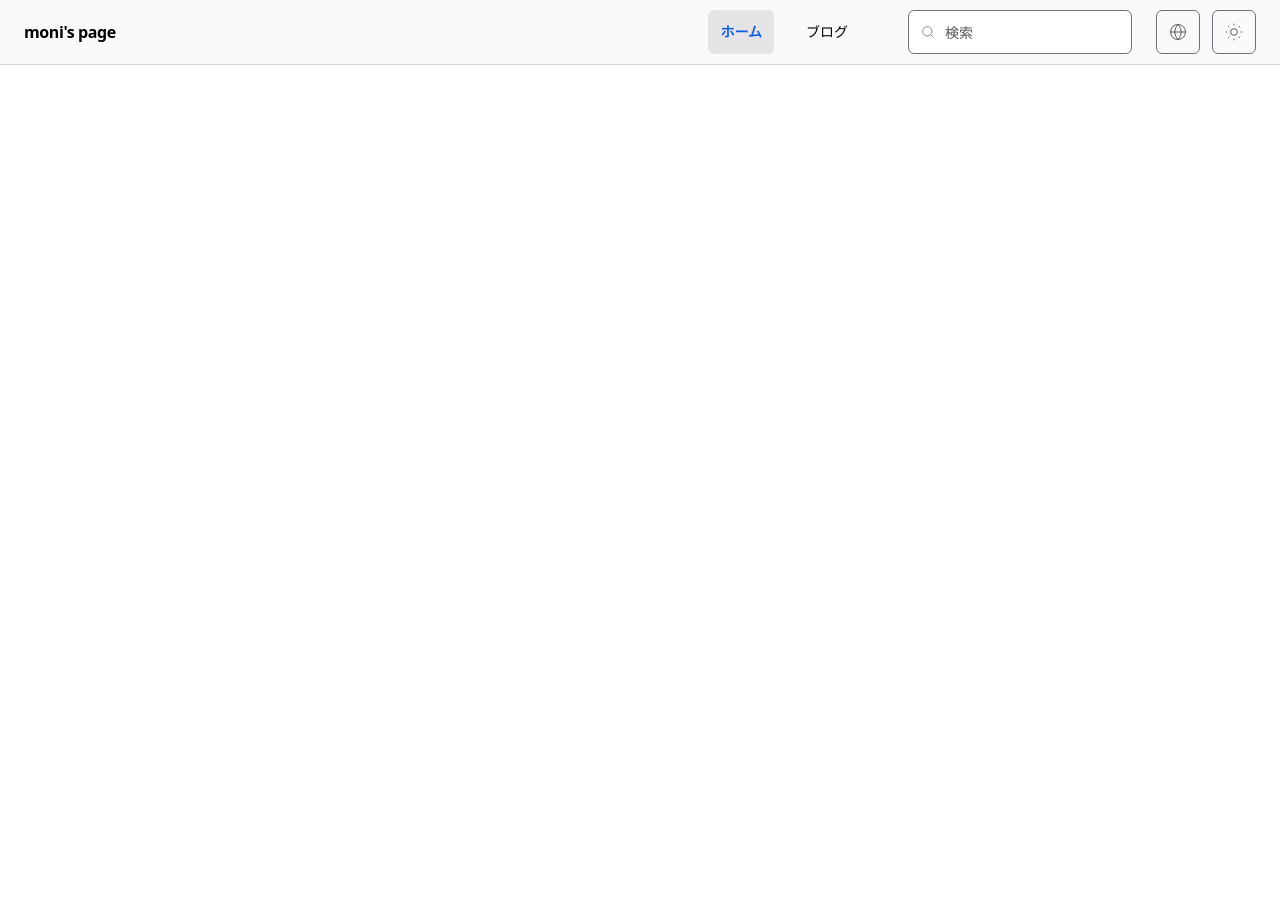
Test: SiteHeader › exposes language availability and applies a selected theme
Expected: the icon with class "theme-icon--sun" is shown, [1224,22,1244,42]
Click the button named "表示言語を変更" at x=1178, y=32, box [1156,10,1200,54]
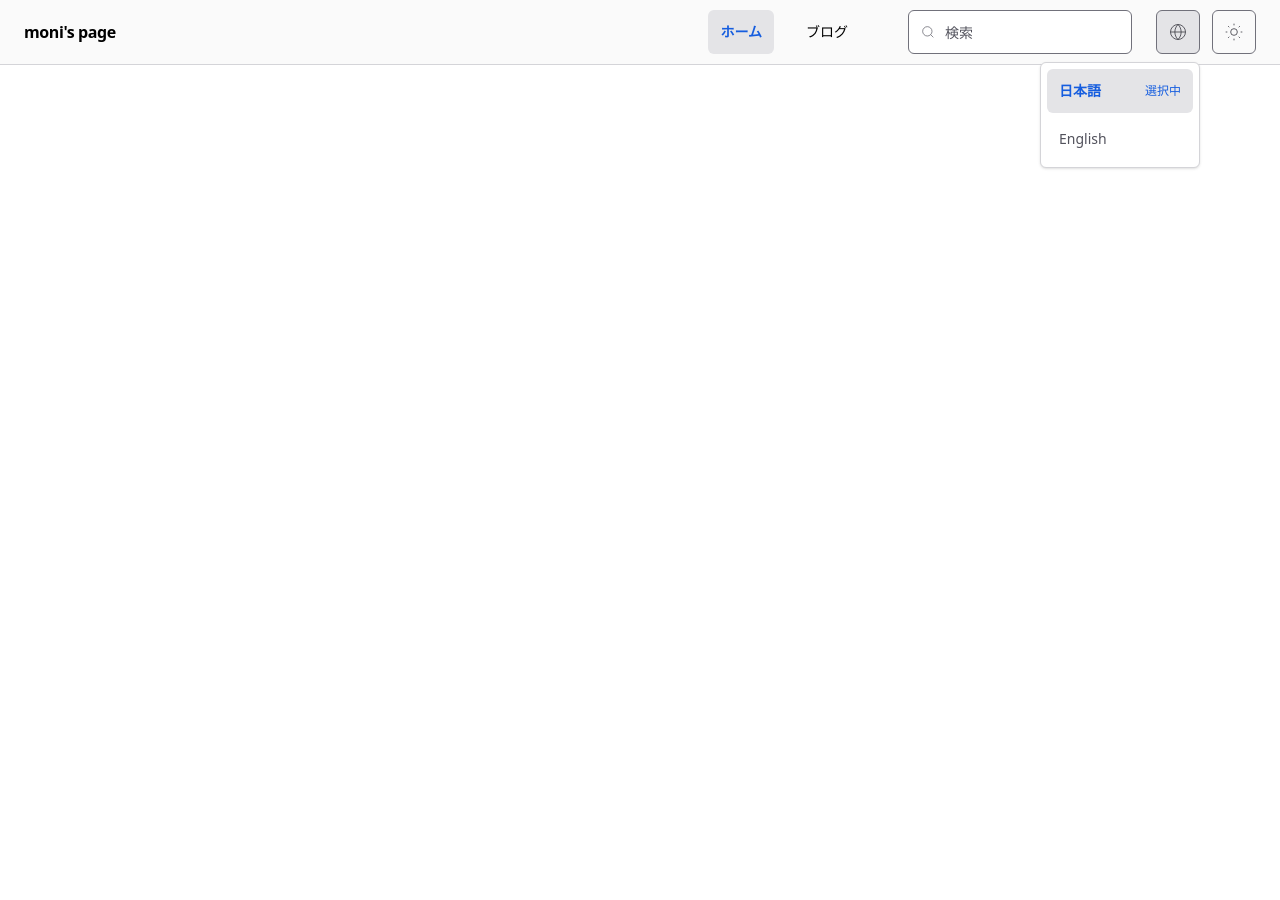
Click the button named "表示テーマを変更" at x=1234, y=32, box [1212,10,1256,54]
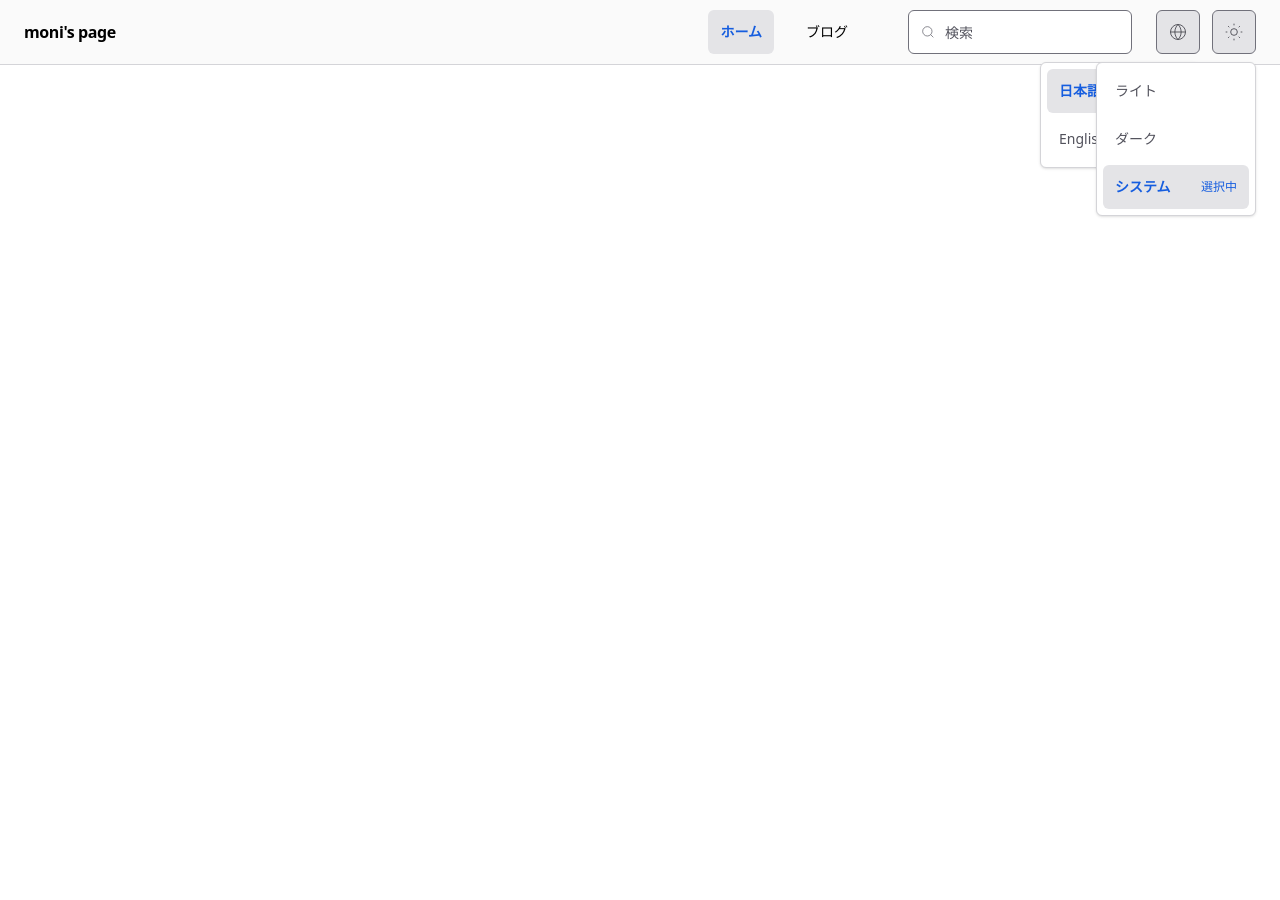
Click the menu item "ダーク" at x=1176, y=139, box [1103,117,1249,161]
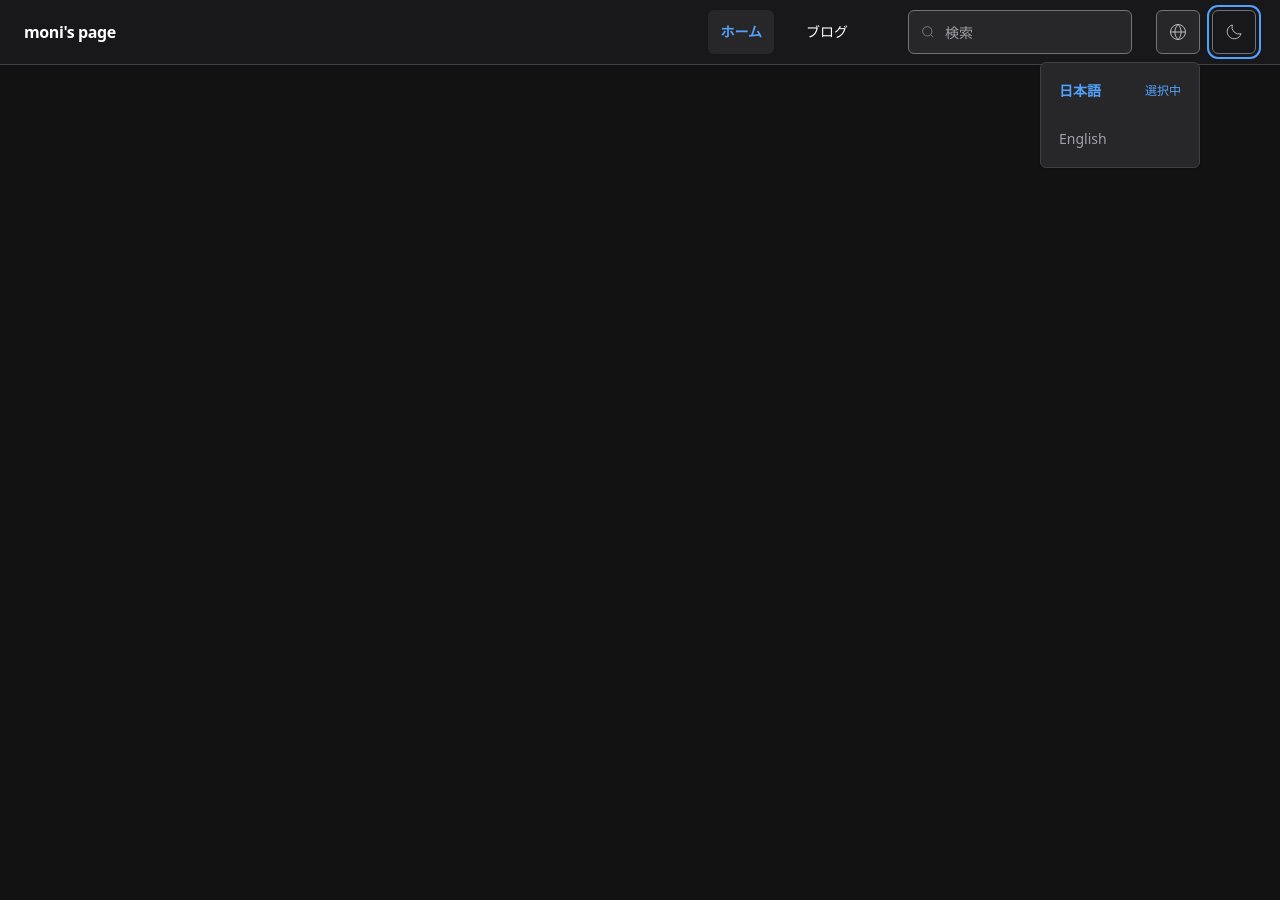
Expected: the icon with class "theme-icon--moon" is shown, [1224,22,1244,42]
